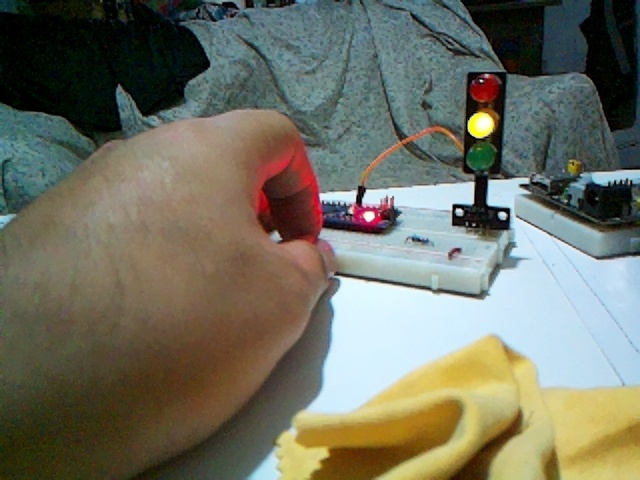traffic_light_yellow: (463, 71, 506, 174)
